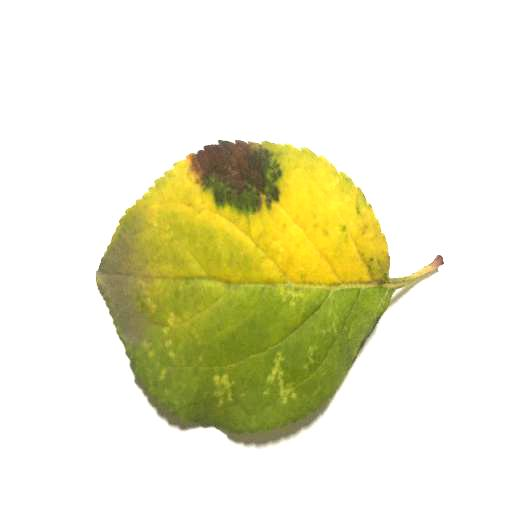Brown_Spot: (186, 146, 273, 210)
